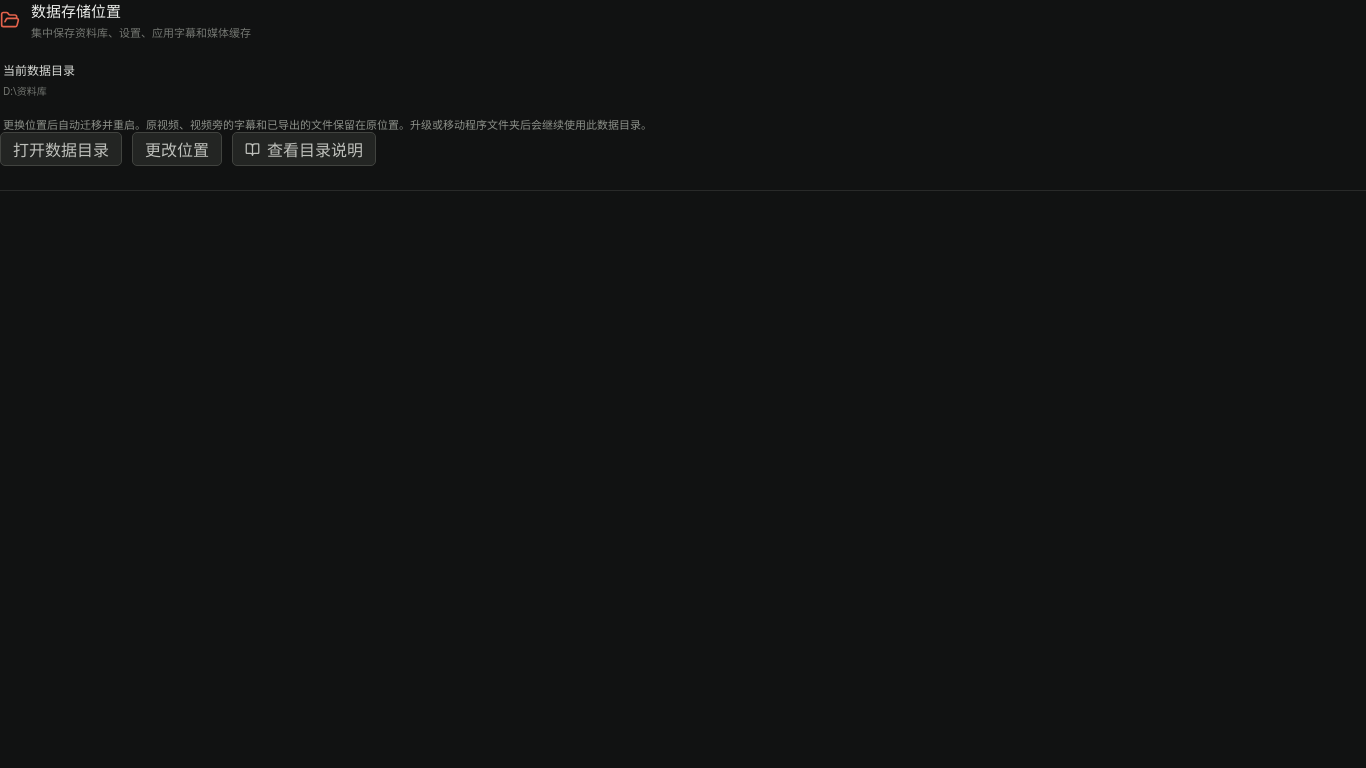
Test: data storage settings › opens and collapses built-in user help without opening files or scheduling migration
Expected: the text "D:\\资料库" is shown, [3,84,47,98]
Step 1. Click the button "查看目录说明" → (304, 149), box [232,132,376,166]
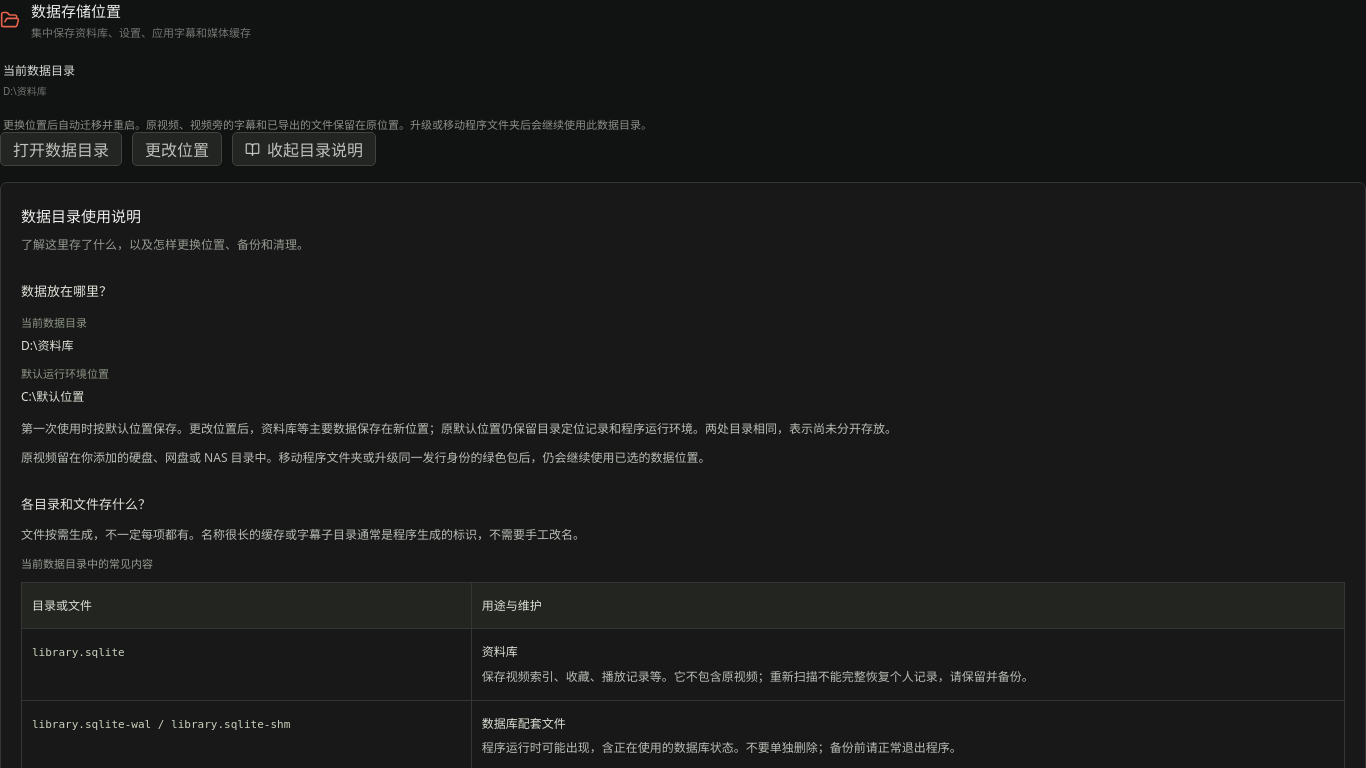
Result: the button named "查看目录说明" is expanded
Result: the text "D:\\资料库" below "数据放在哪里？" is shown at [21,337,74,354]
Result: the text "C:\\默认位置" is shown at [21,388,84,405]
Step 2. Click the button "收起目录说明" → (304, 149), box [232,132,376,166]
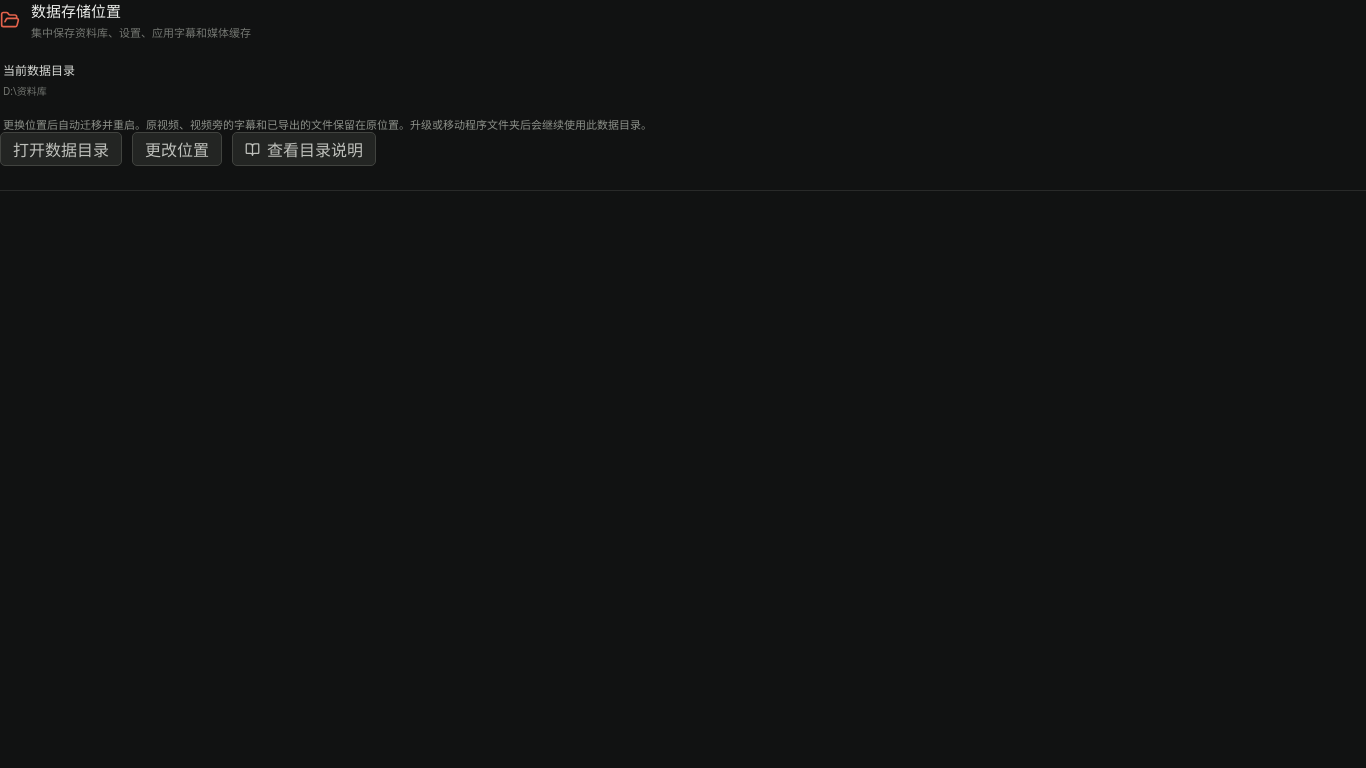
Result: the button named "收起目录说明" is collapsed at [232,132,376,166]
